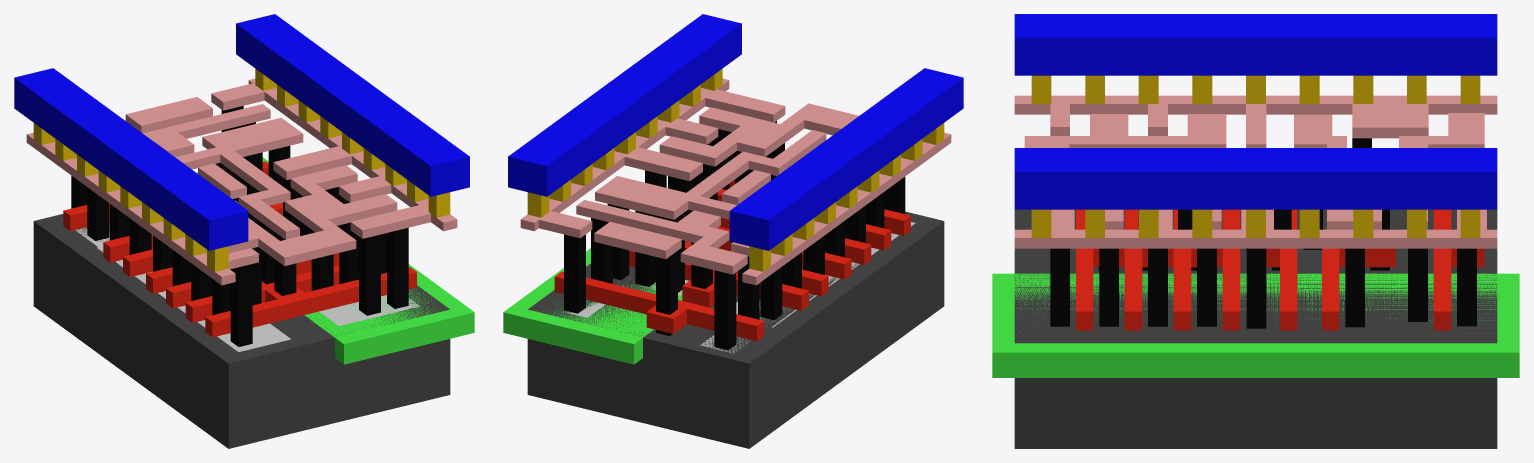
Rendered from sky130_fd_sc_hd__or2b_4.obj.
3 renders of one model, left to right at view 1: azimuth 30°, elevation 25°; view 2: azimuth 150°, elevation 25°; view 3: azimuth 270°, elevation 25°, orthographic. The views are drawn at different scales.
Visible parts, largest first — view 1: subs, metal1, li, licon, poly, nwell, mcon, diff, tap; view 2: subs, metal1, li, licon, poly, nwell, mcon, diff; view 3: metal1, subs, li, nwell, poly, licon, mcon.
Part boxes in pixels (box(x1,y1,x2,y2)): subs: box(33, 200, 450, 448); metal1: box(14, 14, 469, 250); li: box(26, 78, 457, 285); licon: box(71, 106, 408, 346); poly: box(63, 161, 416, 337); nwell: box(196, 157, 474, 364); mcon: box(33, 68, 450, 271); diff: box(62, 220, 290, 352); tap: box(235, 201, 419, 325); subs: box(527, 211, 944, 448); metal1: box(508, 14, 963, 250); li: box(520, 78, 951, 285); licon: box(564, 121, 905, 350); poly: box(554, 179, 910, 341); nwell: box(503, 248, 687, 364); mcon: box(527, 68, 944, 271); diff: box(700, 222, 915, 353); metal1: box(1014, 14, 1497, 209); subs: box(1014, 209, 1497, 448); li: box(1014, 95, 1497, 248); nwell: box(992, 273, 1519, 377); poly: box(1076, 209, 1484, 330); licon: box(1050, 138, 1476, 328); mcon: box(1031, 75, 1480, 237).
Bounding box in the file's own units: 3.2 × 2.74 × 4.52.
